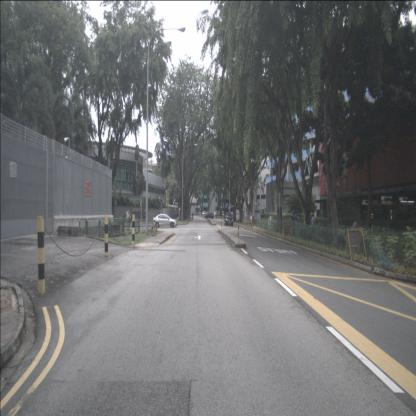human-pedestrian-adult: (311, 213, 316, 239), (130, 208, 133, 225), (126, 209, 129, 225), (128, 208, 130, 225), (250, 211, 252, 227), (177, 209, 179, 218), (176, 209, 178, 218), (215, 212, 217, 220), (192, 212, 193, 219)
vehicle-bicycle: (152, 215, 158, 237)
vehicle-car: (152, 214, 178, 228), (224, 213, 234, 227), (204, 212, 214, 219)
